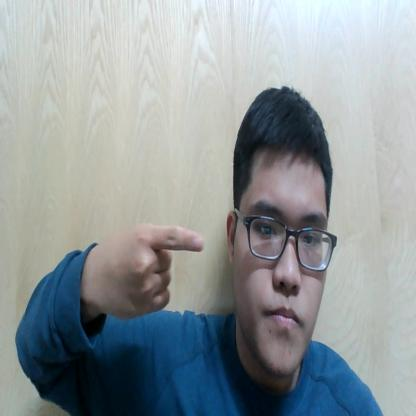left: (104, 213, 211, 329)
